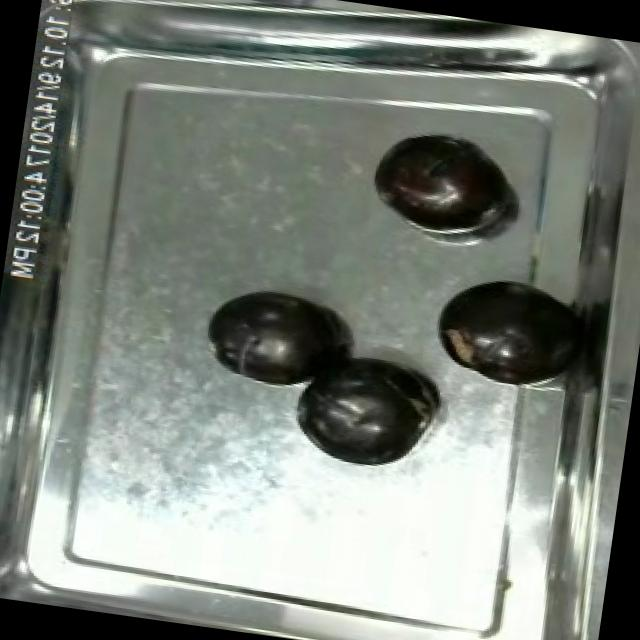Fruit: (425, 266, 588, 396), (288, 348, 436, 474), (364, 122, 512, 238), (198, 276, 344, 391)
